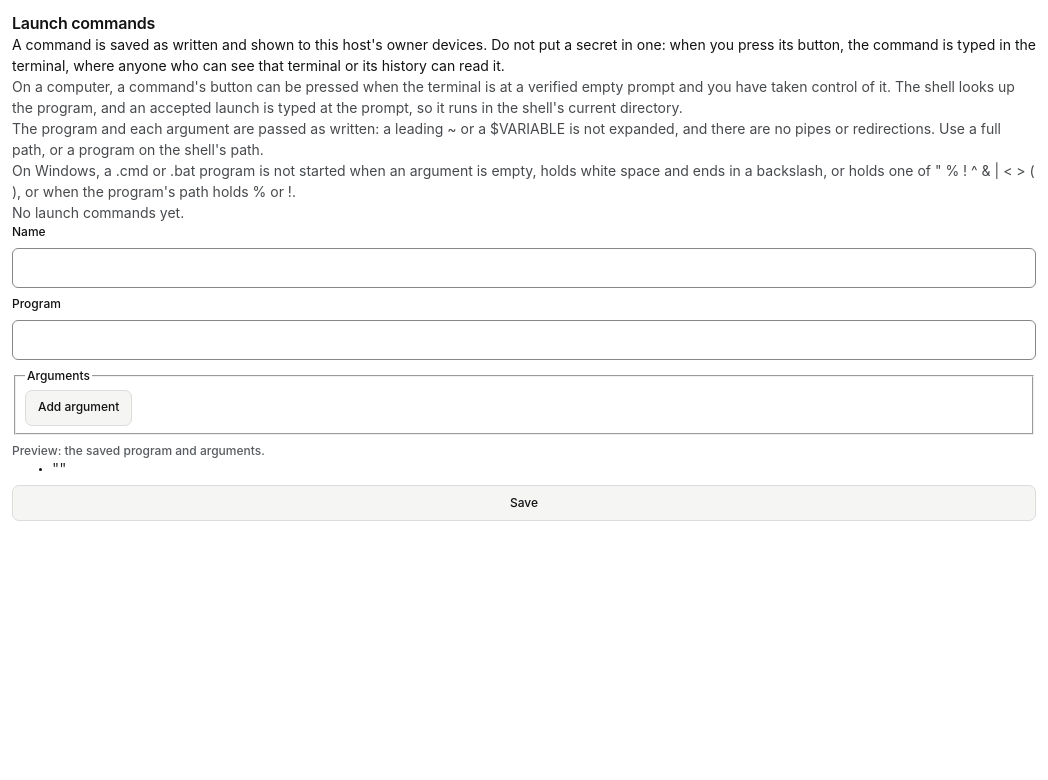
it: the Settings form for the saved commands › holds a program and separate arguments, shows a display-only preview and saves them as typed
Type "Agent" into the field with test id "launch-commands-name".
click(524, 268); type("Agent")  # box [12,248,1036,288]
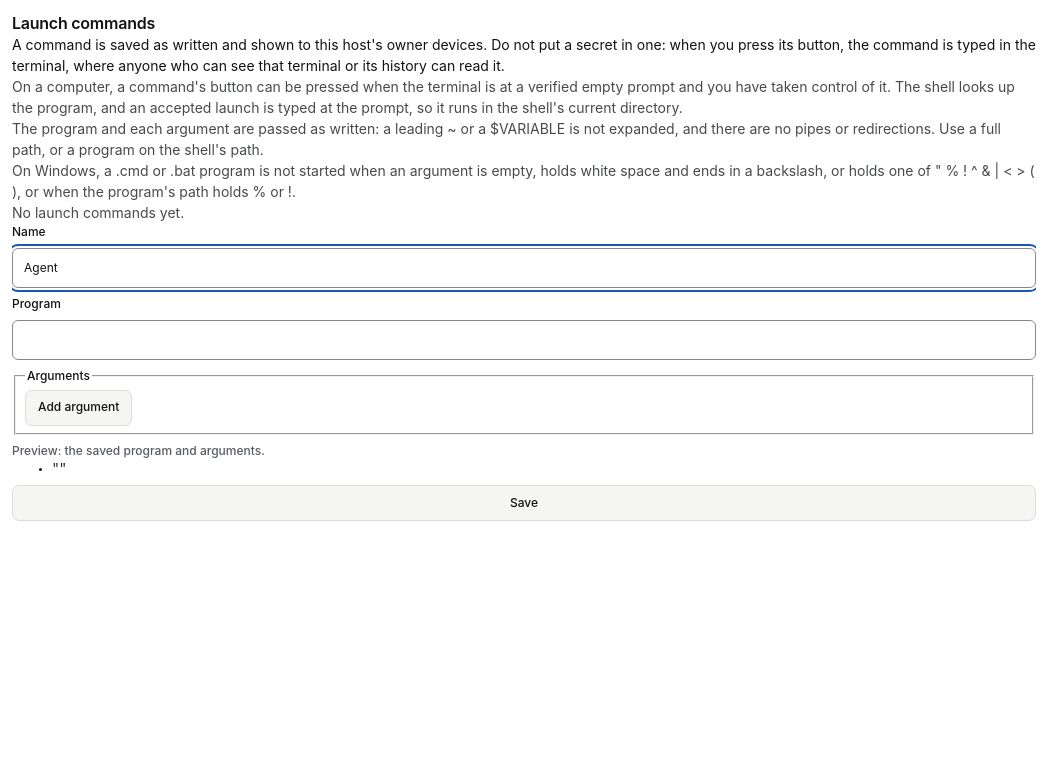
Type "C:\\tools\\agent.exe" into the field with test id "launch-commands-program".
click(524, 340); type("C:\\tools\\agent.exe")  # box [12,320,1036,360]
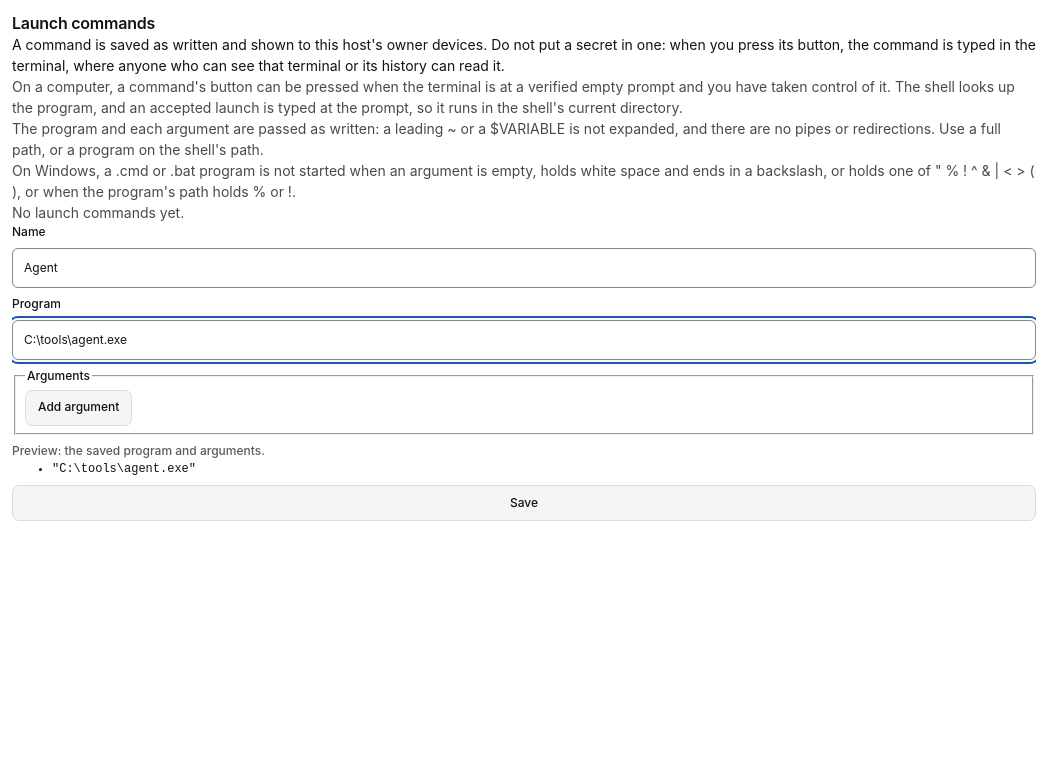
Click the button with test id "launch-commands-add-argument".
click(79, 408)  # box [25,390,132,426]
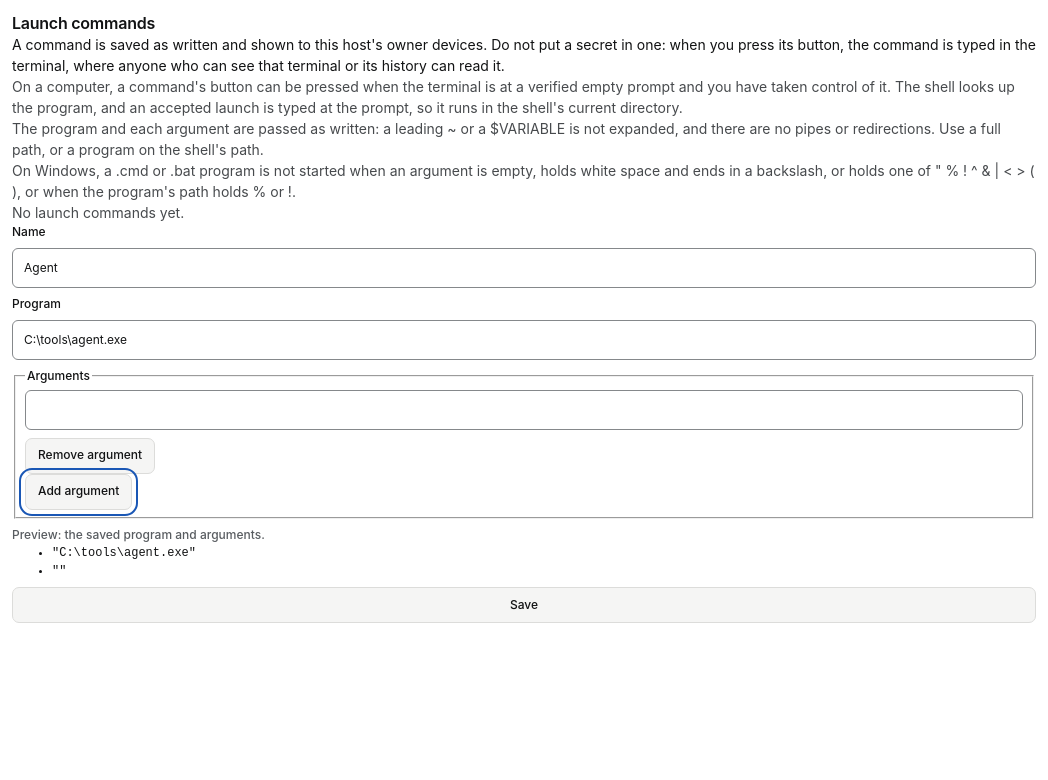
Click the button with test id "launch-commands-add-argument".
click(79, 492)  # box [25,474,132,510]
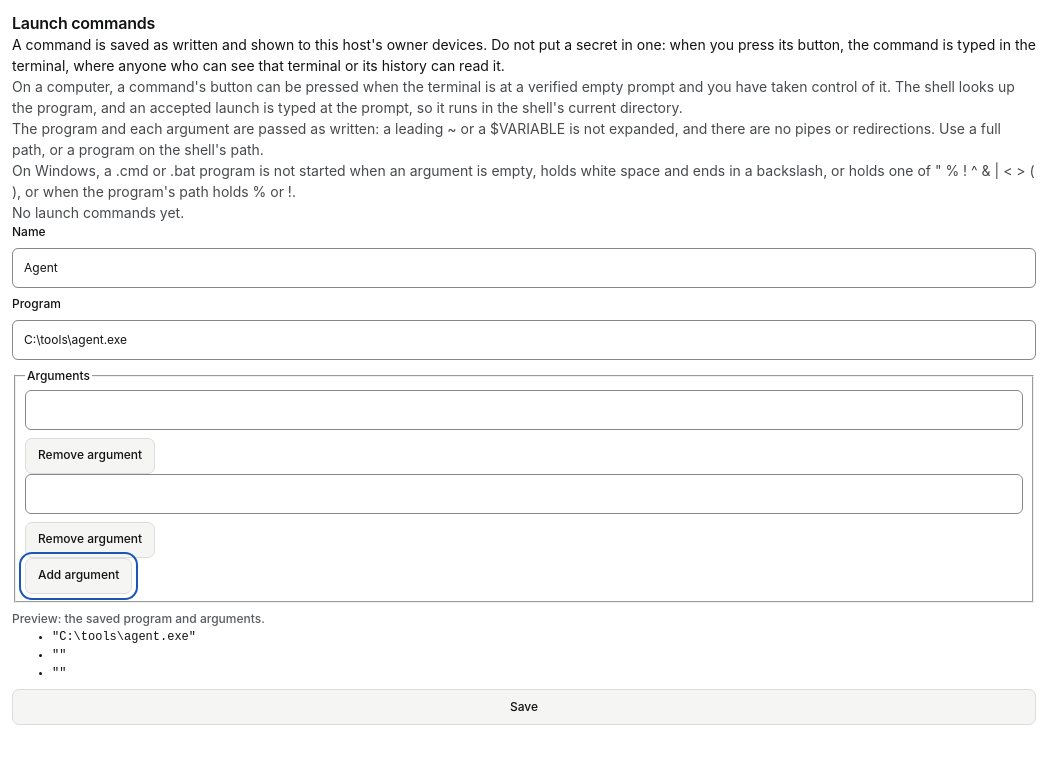
Type "two words" into the 1st field with test id "launch-commands-argument".
click(524, 410); type("two words")  # box [25,390,1023,430]
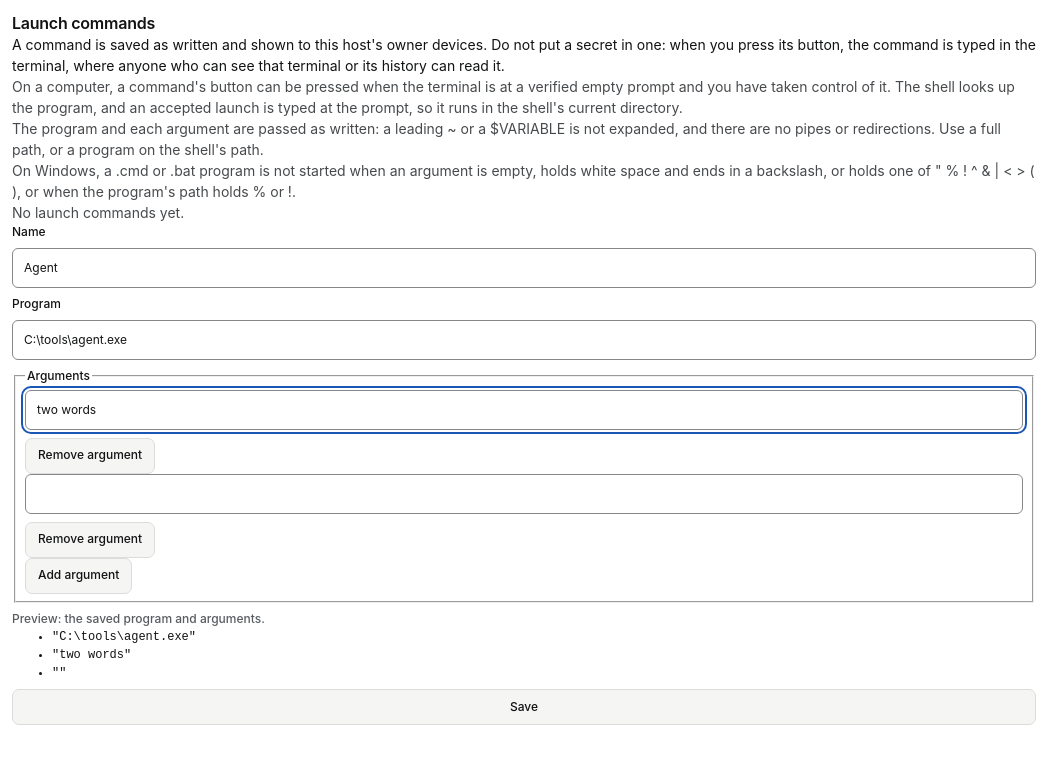
Expected: the text "Preview: the saved program and arguments." is shown, [12,611,265,626]
Result: the list items read "\"C:\\tools\\agent.exe\"", "\"two words\"", "\"\"", in this order at [52,630,196,644]; [52,648,131,662]; [52,666,66,680]
Click the button with test id "launch-commands-save".
click(524, 707)  # box [12,689,1036,725]
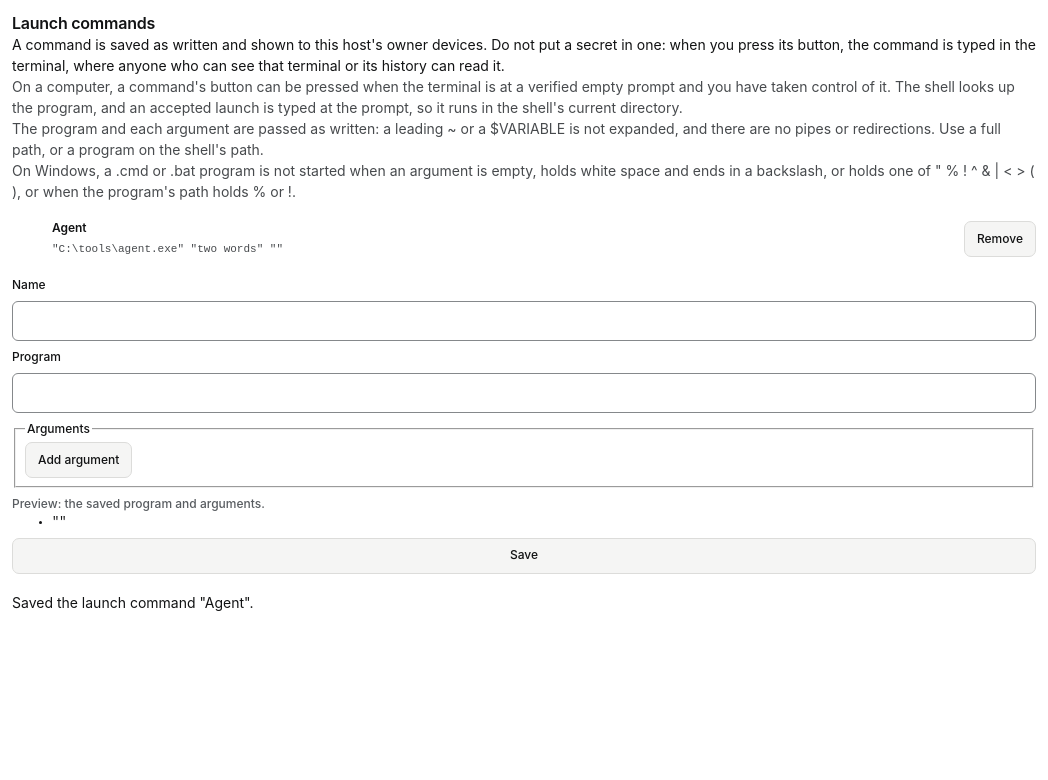
Result: the text with test id "said" reads "Saved the launch command \"Agent\"." at [12,594,254,611]
Result: the list with test id "launch-commands-list" shows "Agent" at [52,220,86,235]
